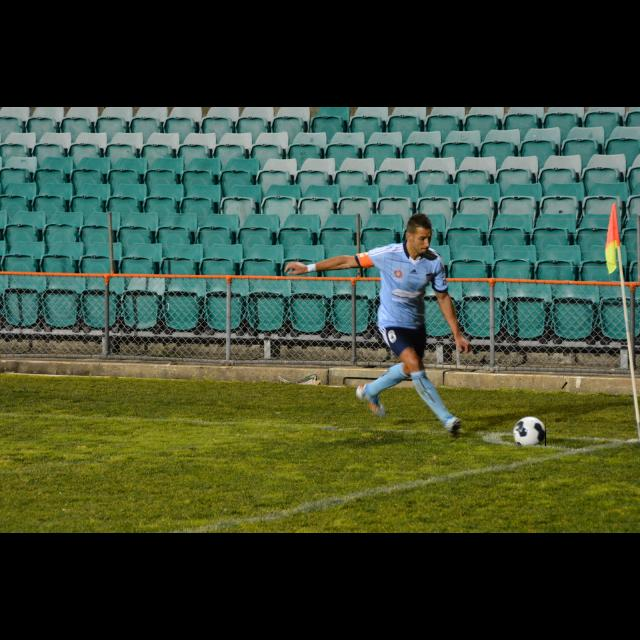Football: (510, 416, 546, 446)
